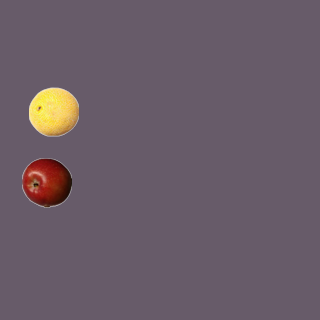Apple Braeburn: (21, 157, 71, 207)
Cantaloupe 1: (28, 86, 78, 136)
